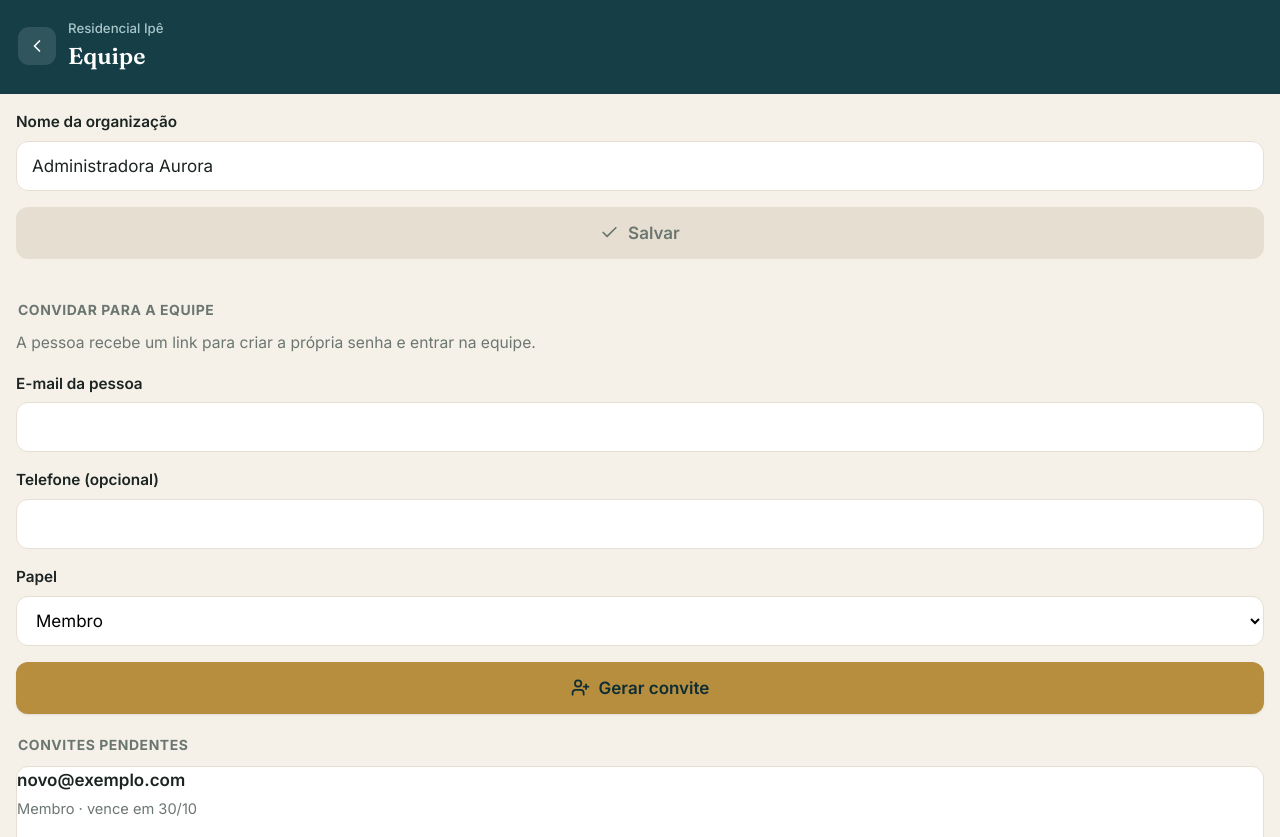
it: TeamScreen › invite requires an e-mail
The image size is (1280, 837).
Step 1. Click the button "Gerar convite" → (640, 688), box [16,662,1264,714]
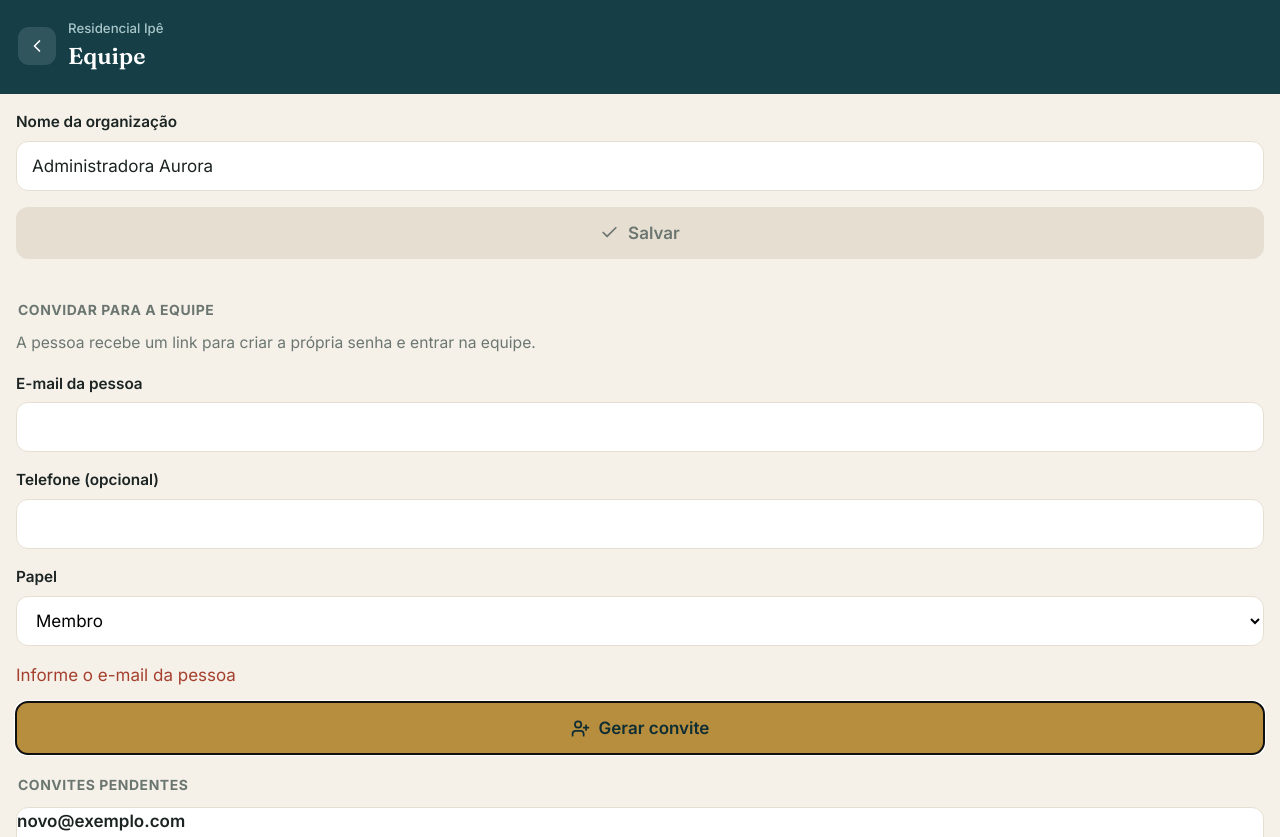
Now the message reads "Informe o e-mail da pessoa", box [16,665,236,685]
